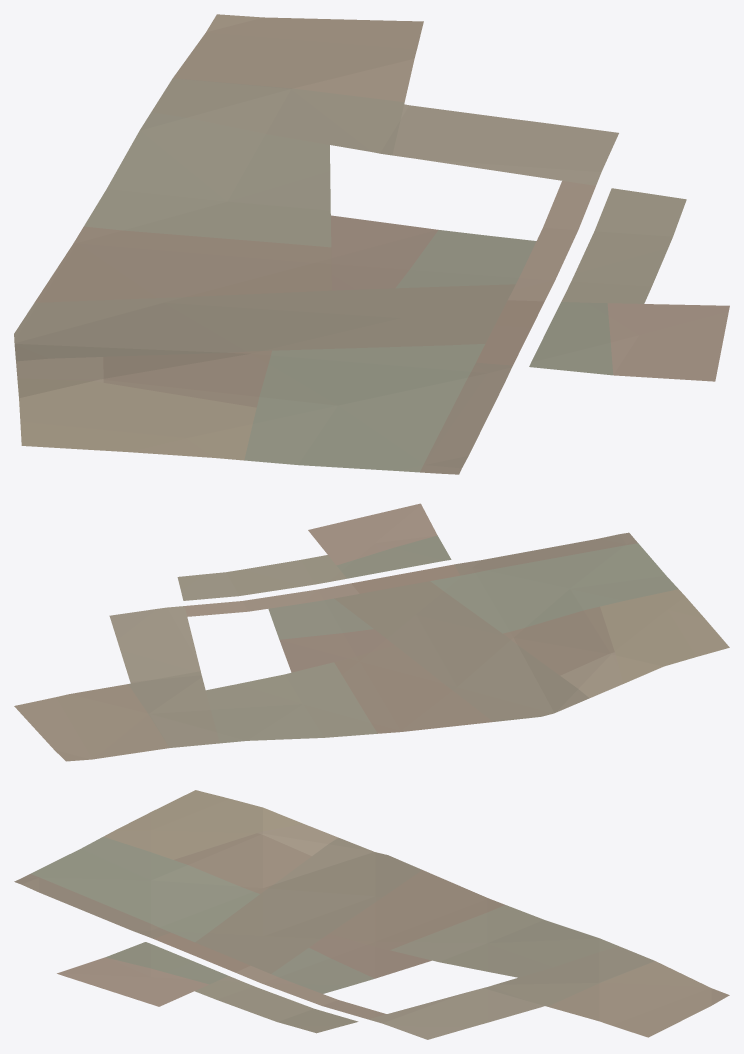
The model's file is farm_-26_-25_soil.glb.
The picture shows the model from 3 angles, top to bottom: view 1: azimuth 30°, elevation 25°; view 2: azimuth 150°, elevation 25°; view 3: azimuth 270°, elevation 25°; orthographic projection. The views are drawn at different scales.
Parts seen in each view (by area): view 1: geometry_0; view 2: geometry_0; view 3: geometry_0.
Boxes of the visible parts, left/top/right/bottom form: geometry_0: left=14, top=14, right=729, bottom=474; geometry_0: left=14, top=503, right=729, bottom=761; geometry_0: left=14, top=790, right=729, bottom=1039.
Bounding box in the file's own units: 413 × 17.26 × 511.
